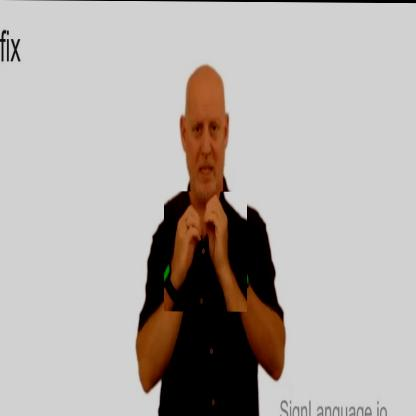Fix: (164, 191, 247, 311)
